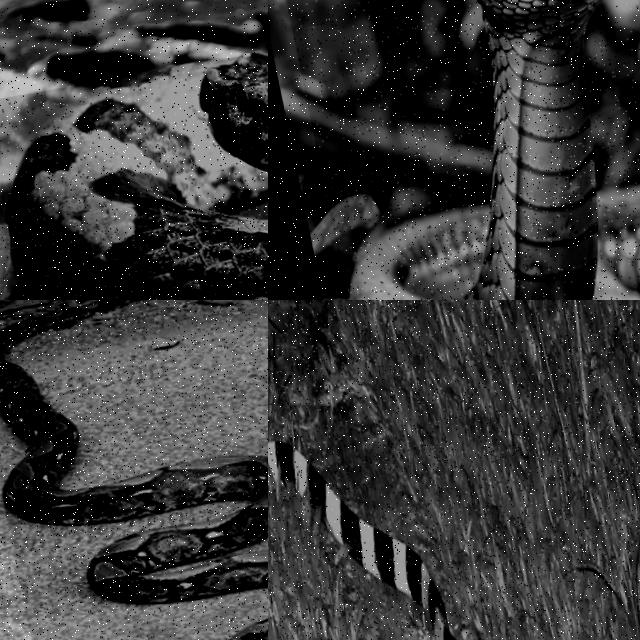Bungarus candidus: (268, 440, 460, 639)
Malayopython reticulatus: (0, 300, 267, 602)
Naja siamensis: (350, 0, 639, 299)
Ovophis monticola: (10, 55, 267, 299)
